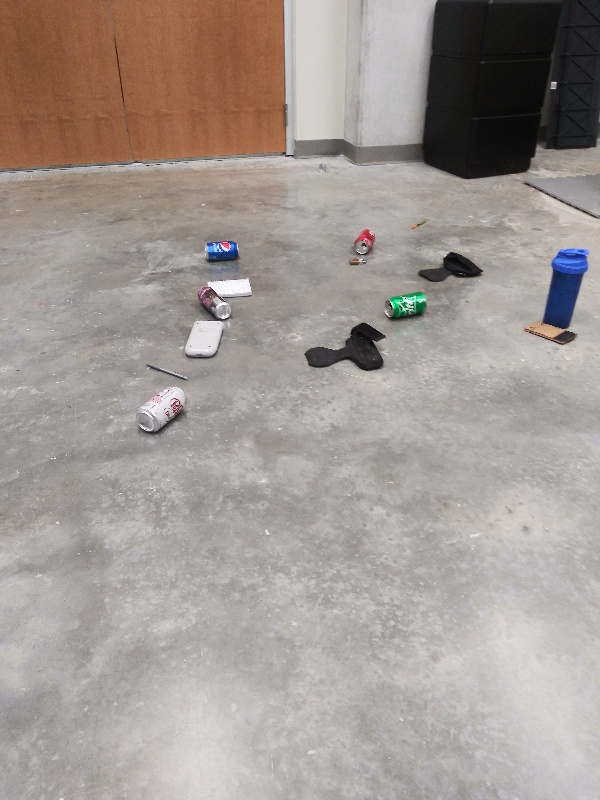can: (131, 382, 192, 440), (194, 282, 236, 322), (382, 289, 433, 321), (200, 238, 244, 265), (350, 225, 379, 257)
